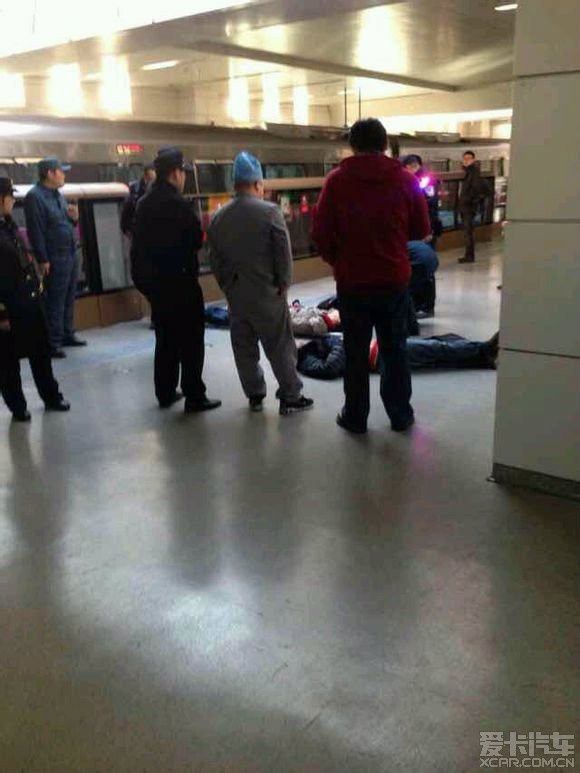falling: (261, 289, 508, 410)
